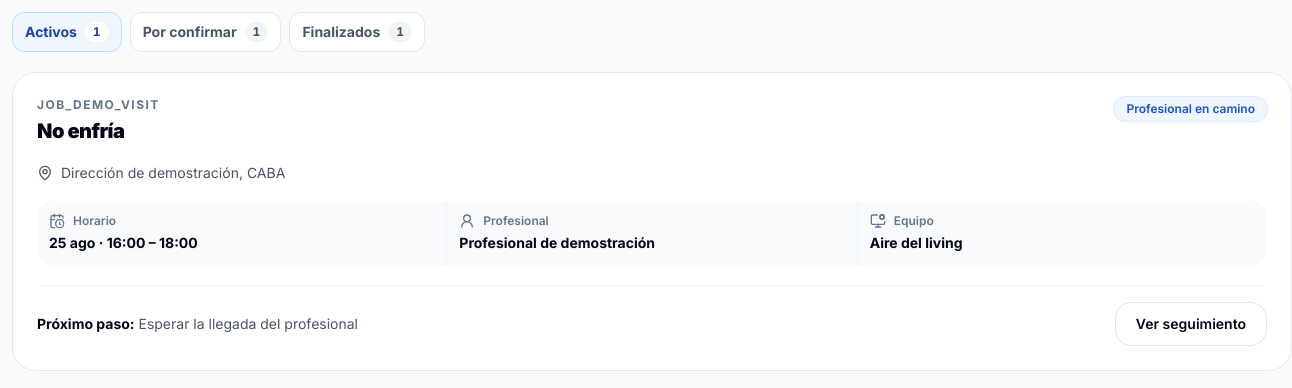
Scenario: customer job pages › filters active, confirmation and completed jobs with controlled count tabs
The width and height of the screenshot is (1292, 388).
expect the heading "No enfría" is shown: met, box left=37, top=119, right=124, bottom=143
expect the text "Pierde agua" is not shown: met
Click the tab "Por confirmar 1" at (206, 32), box left=130, top=12, right=281, bottom=52
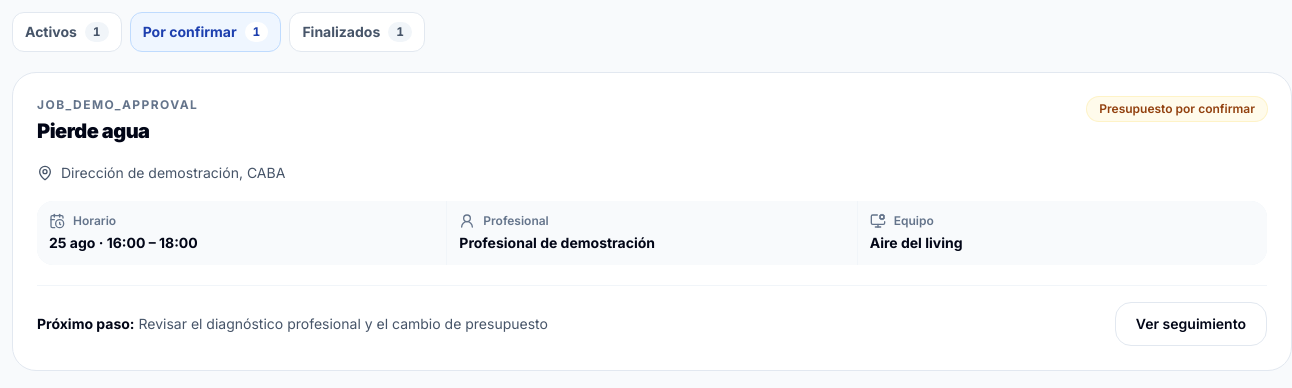
expect the heading "Pierde agua" is shown: met, box left=37, top=119, right=150, bottom=143
expect the heading "No enfría" is gone: met
Click the tab "Finalizados 1" at (357, 32), box left=289, top=12, right=425, bottom=52
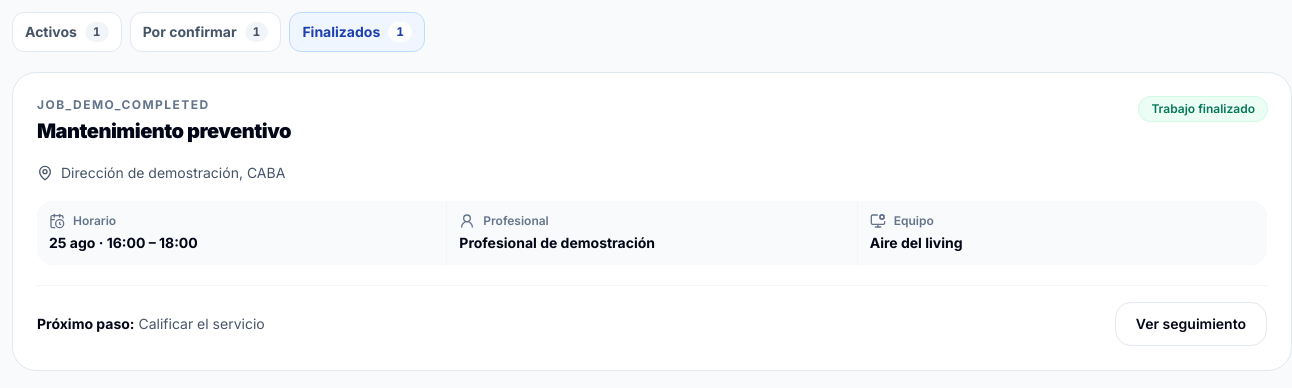
expect the heading "Mantenimiento preventivo" is shown: met, box left=37, top=117, right=291, bottom=145
